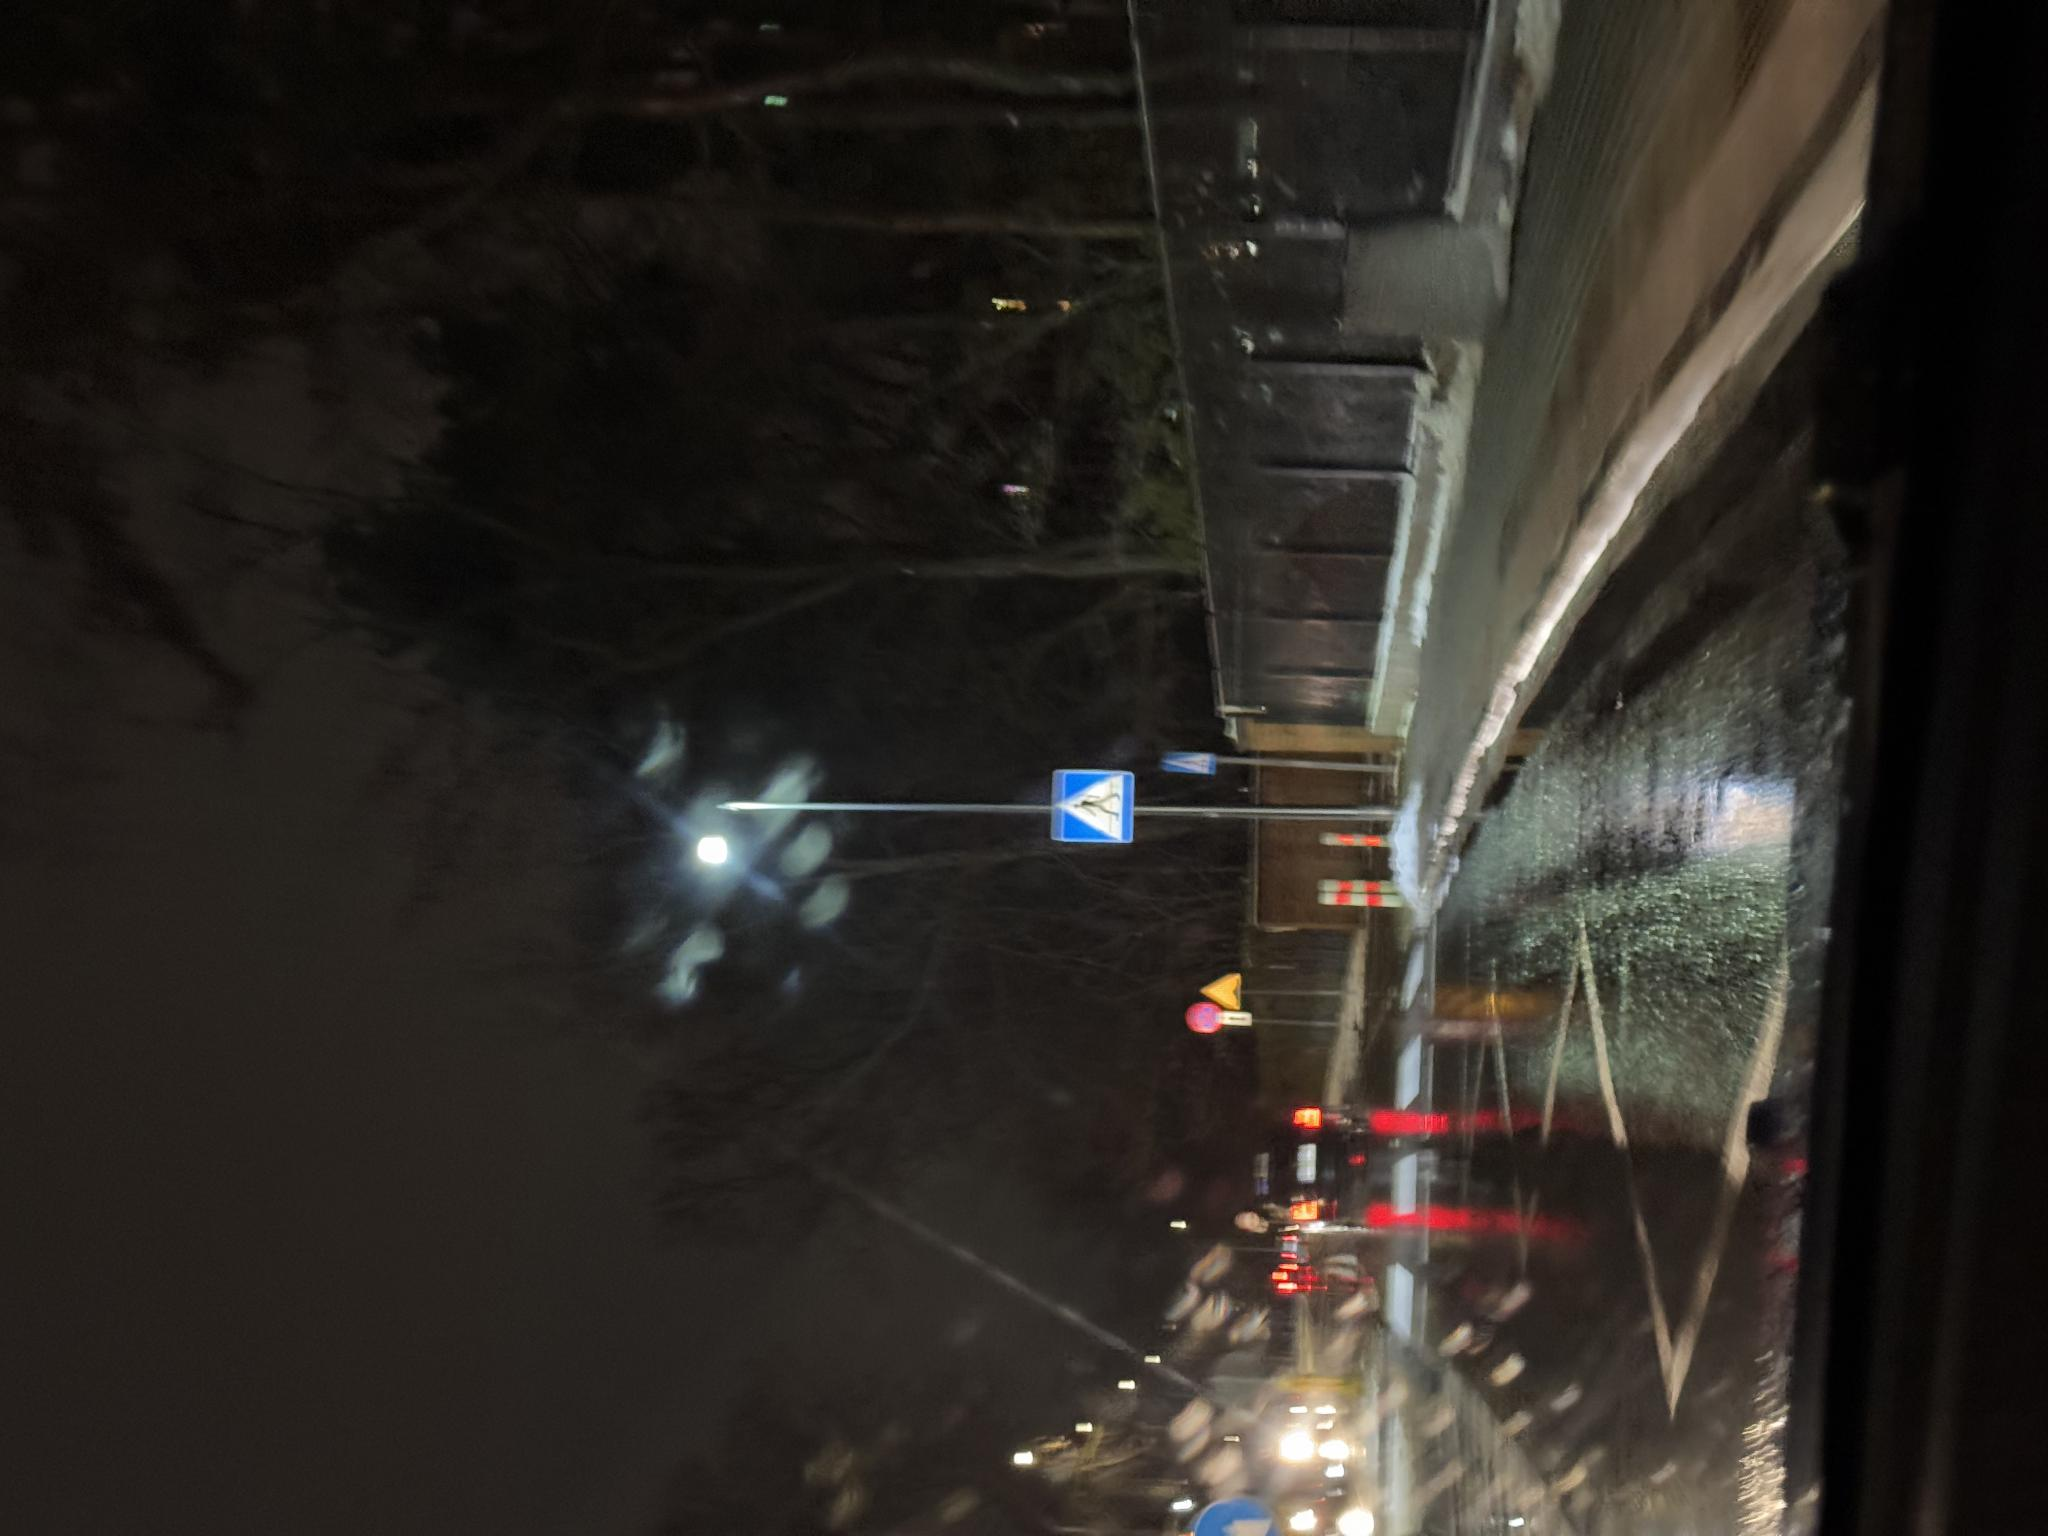information: (693, 1057, 766, 1137), (761, 1162, 785, 1218)
mandatory: (0, 1192, 39, 1284)
other: (511, 1221, 522, 1252)
prohibitory: (503, 1189, 534, 1220)
warning: (526, 1208, 563, 1242)
